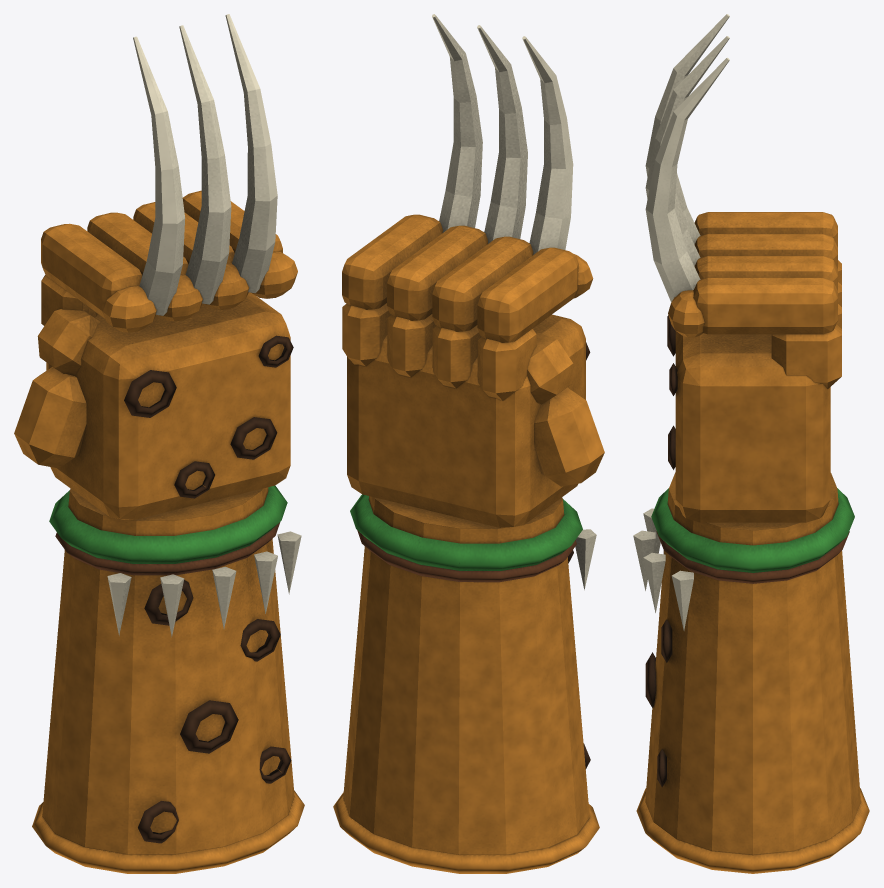
Rendered from 03_jungle_gauntlet.fbx.
3 renders of one model, left to right at view 1: azimuth 30°, elevation 25°; view 2: azimuth 150°, elevation 25°; view 3: azimuth 270°, elevation 25°, orthographic. The views are drawn at different scales.
Parts seen in each view (by area): view 1: Weapon; view 2: Weapon; view 3: Weapon.
Part boxes in pixels (x1,y1,x2,y2): Weapon: (14,14,304,873); Weapon: (333,14,604,873); Weapon: (633,14,869,873).
Size of the model in its own units: 17.14 by 50.4 by 13.78.
Materials: 1 (1 with a texture image).
